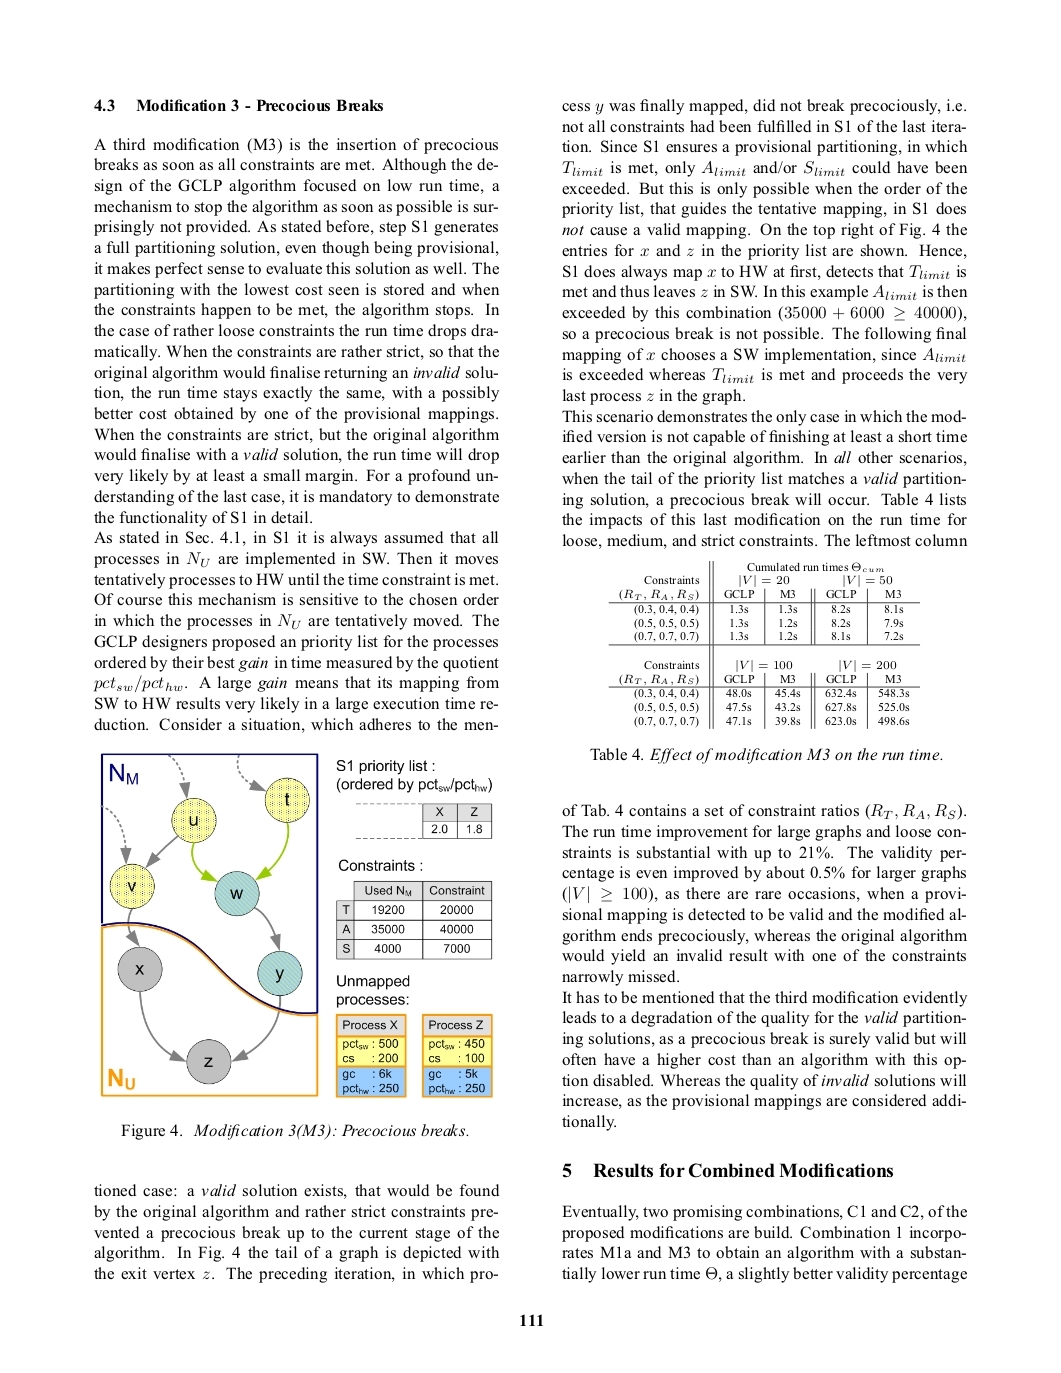Table: (609, 559, 919, 729)
figure: (99, 752, 493, 1099)
